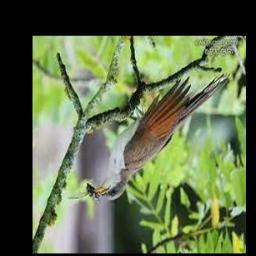Cuckoo: (94, 73, 229, 200)
